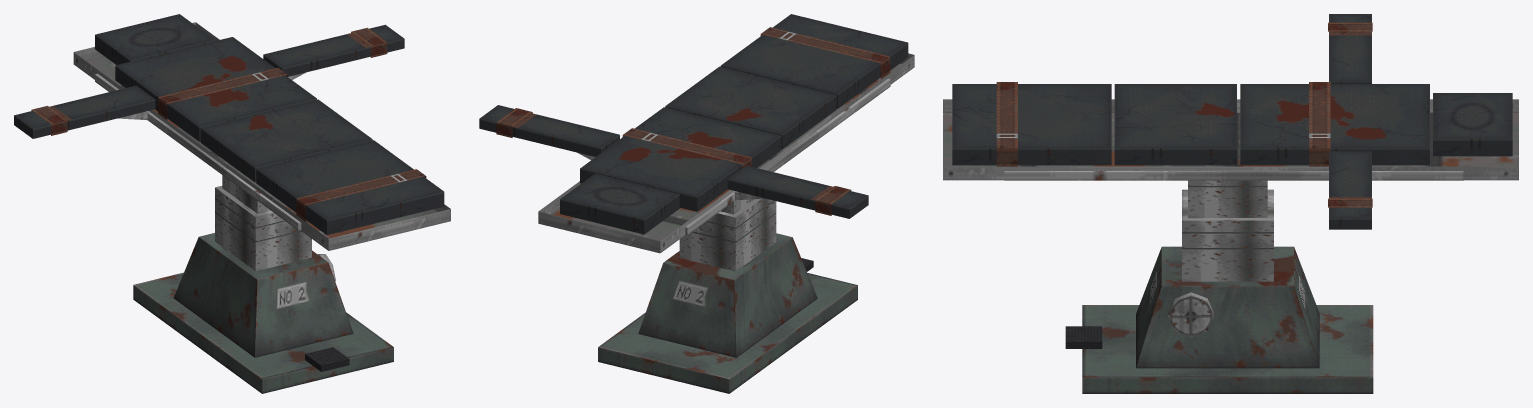
File: operating_table.obj
3 views of the same model, side by side, from view 1: azimuth 30°, elevation 25°; view 2: azimuth 150°, elevation 25°; view 3: azimuth 270°, elevation 25° (orthographic). The views are drawn at different scales.
Parts seen in each view (by area): view 1: operating_table; view 2: operating_table; view 3: operating_table.
Boxes of the visible parts, x1,y1,x2,y2 form: operating_table: [14, 14, 450, 393]; operating_table: [479, 14, 914, 393]; operating_table: [943, 14, 1518, 393].
Bounding box in the file's own units: 1.58 × 0.874 × 1.88.
1 material, 1 textured.
